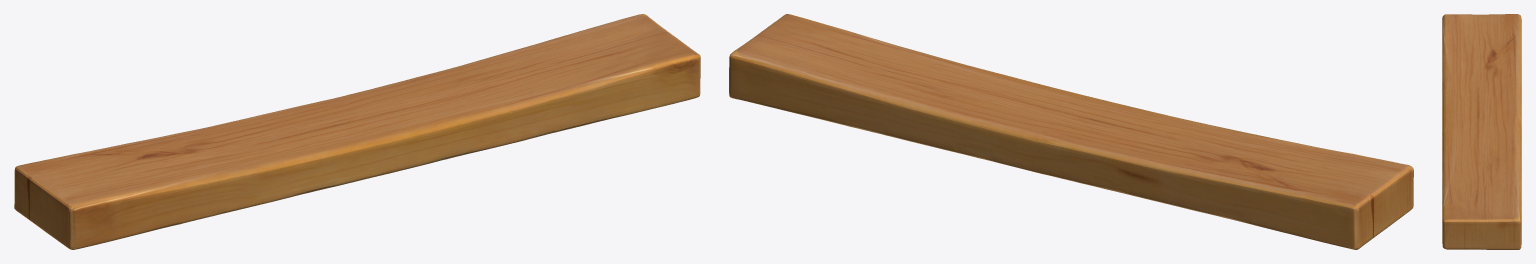
File: Wooden Plank.fbx
3 views of the same model, side by side, from view 1: azimuth 30°, elevation 25°; view 2: azimuth 150°, elevation 25°; view 3: azimuth 270°, elevation 25° (orthographic). The views are drawn at different scales.
Parts seen in each view (by area): view 1: temp; view 2: temp; view 3: temp.
Part boxes in pixels (x1,y1,x2,y2): temp: (14, 14, 700, 249); temp: (729, 14, 1413, 249); temp: (1442, 14, 1521, 249).
Bounding box in the file's own units: 200 × 14.18 × 32.49.
1 material, 1 textured.
